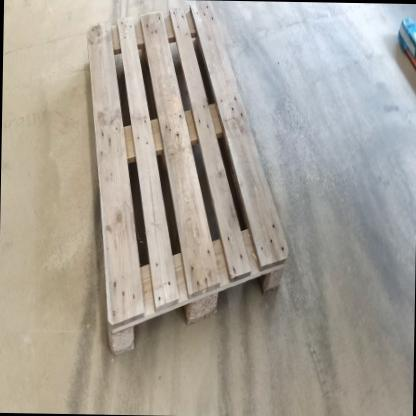BoxFace: (80, 3, 294, 372)
